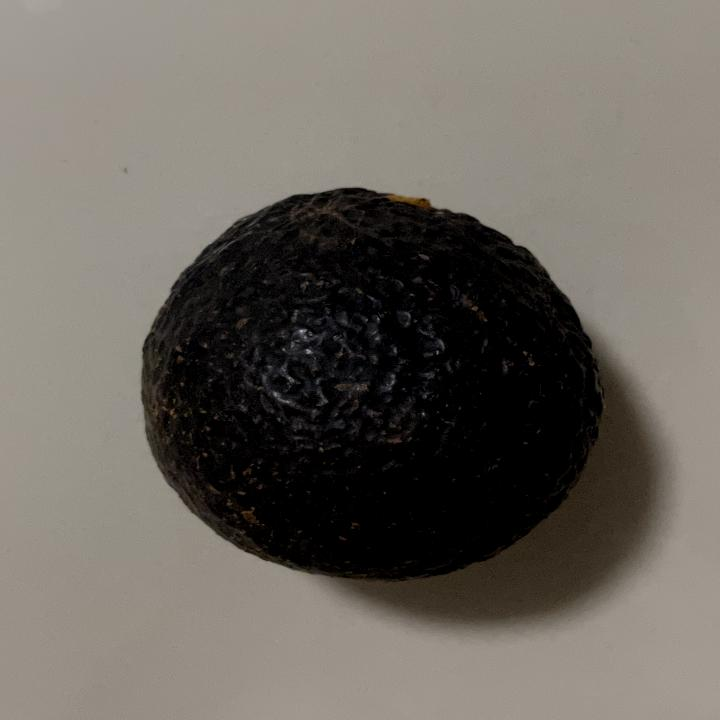Level2: (133, 178, 610, 584)
